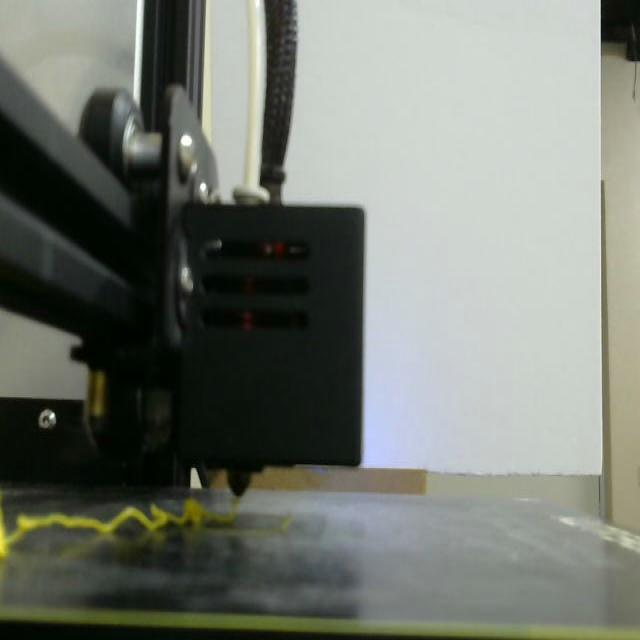spaghetti: (0, 490, 236, 559)
